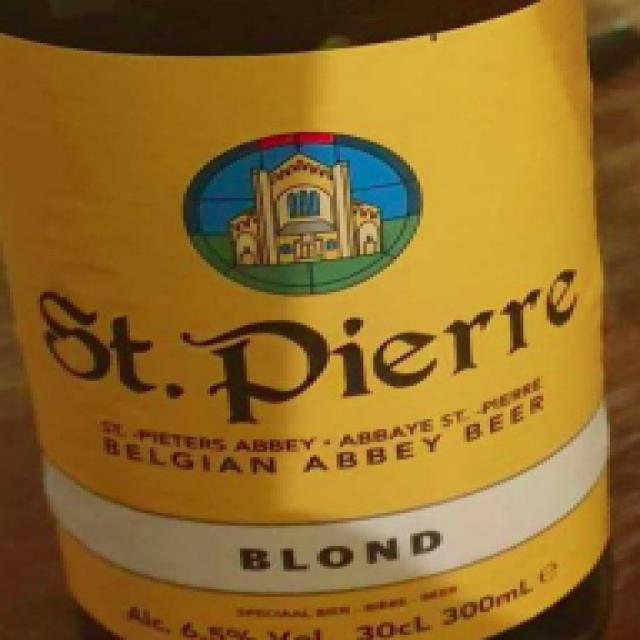St.Pierre Blond: (3, 0, 640, 640)
